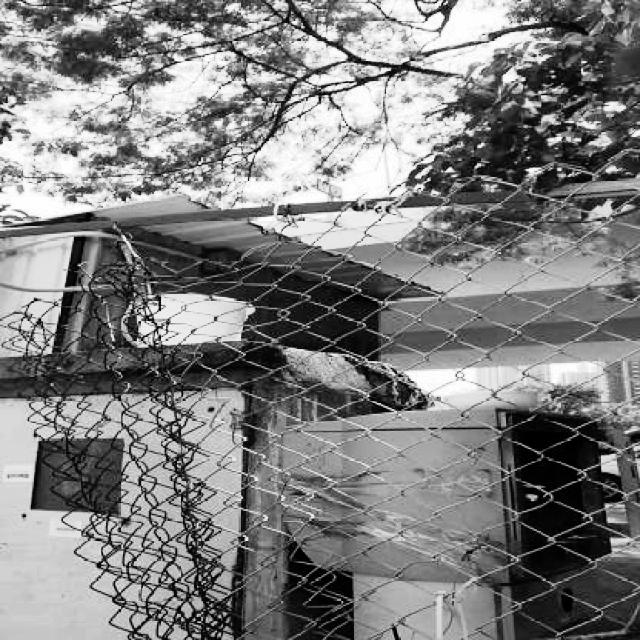anomaly-fence: (4, 89, 403, 640)
